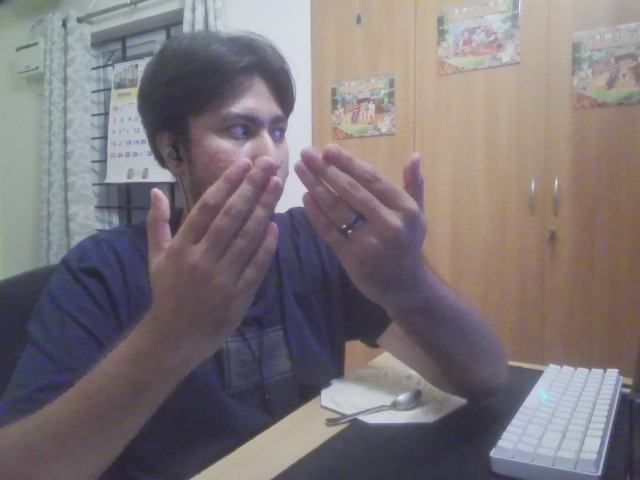thankyou: (144, 144, 430, 357)
